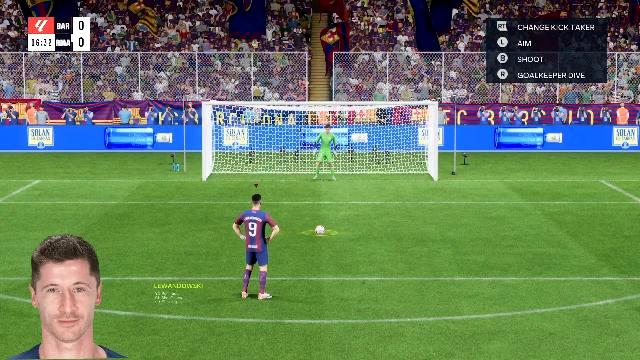bottom-left: (206, 148, 288, 180)
bottom-right: (361, 148, 433, 180)
center-down: (288, 148, 362, 180)
center-up: (292, 105, 358, 146)
circle: (303, 231, 341, 235)
football: (313, 226, 327, 233)
goalkeeper: (310, 126, 350, 182)
player: (229, 196, 281, 302)
top-left: (206, 104, 290, 146)
top-right: (360, 106, 436, 146)
